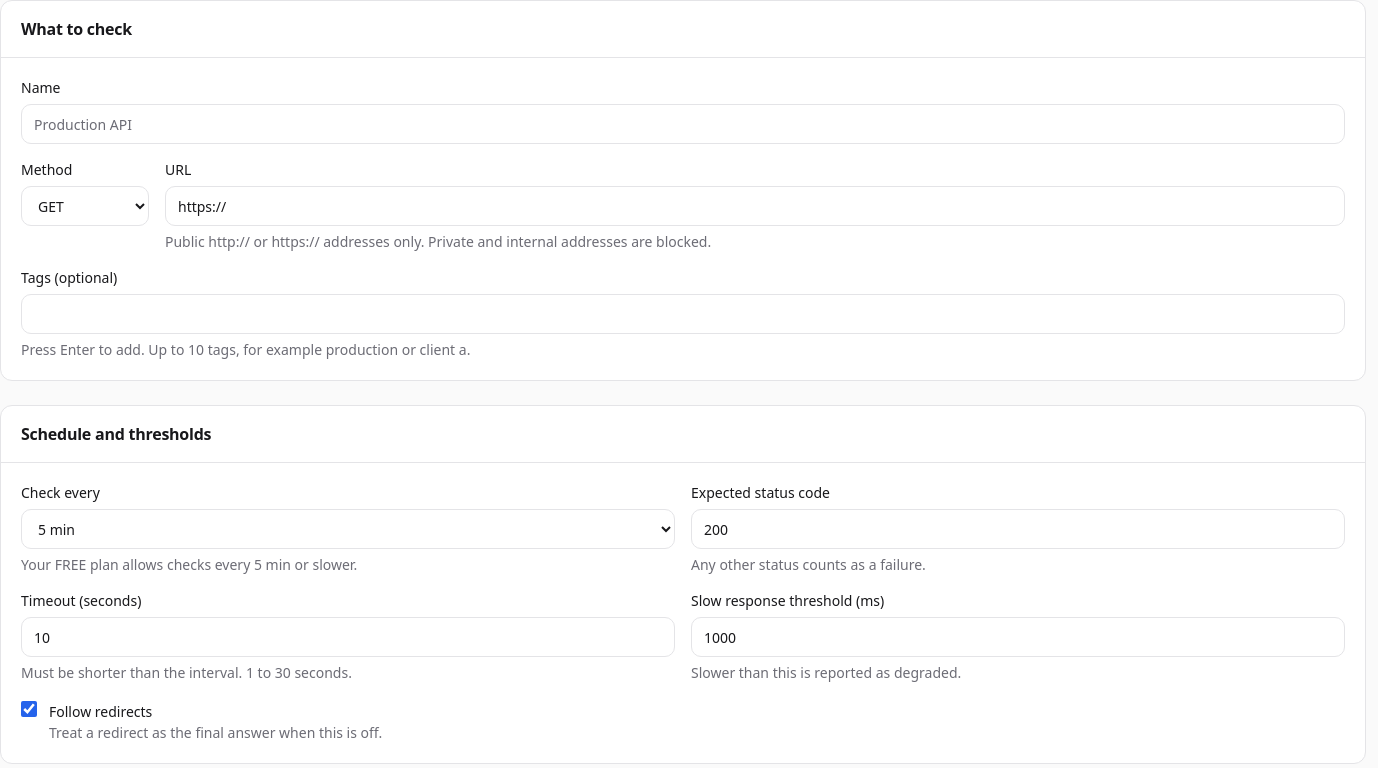
Scenario: MonitorForm validation › rejects the URL not a url
This screenshot has width=1378, height=768.
Type "My API" into the field labelled "Name" at (683, 124), box [21, 104, 1345, 144]
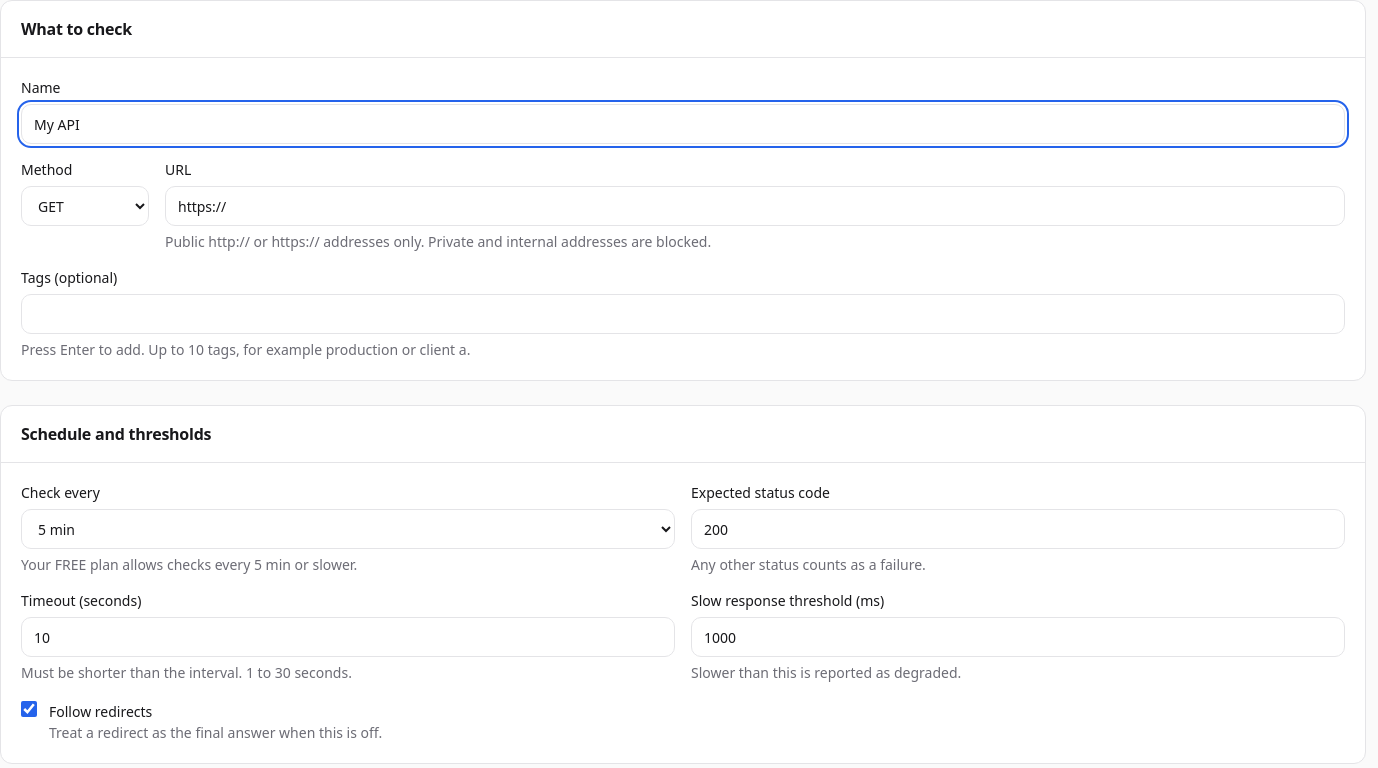
Replace the text in the field labelled "URL" with "not a url" at (755, 206), box [165, 186, 1345, 226]
(page scrolled)
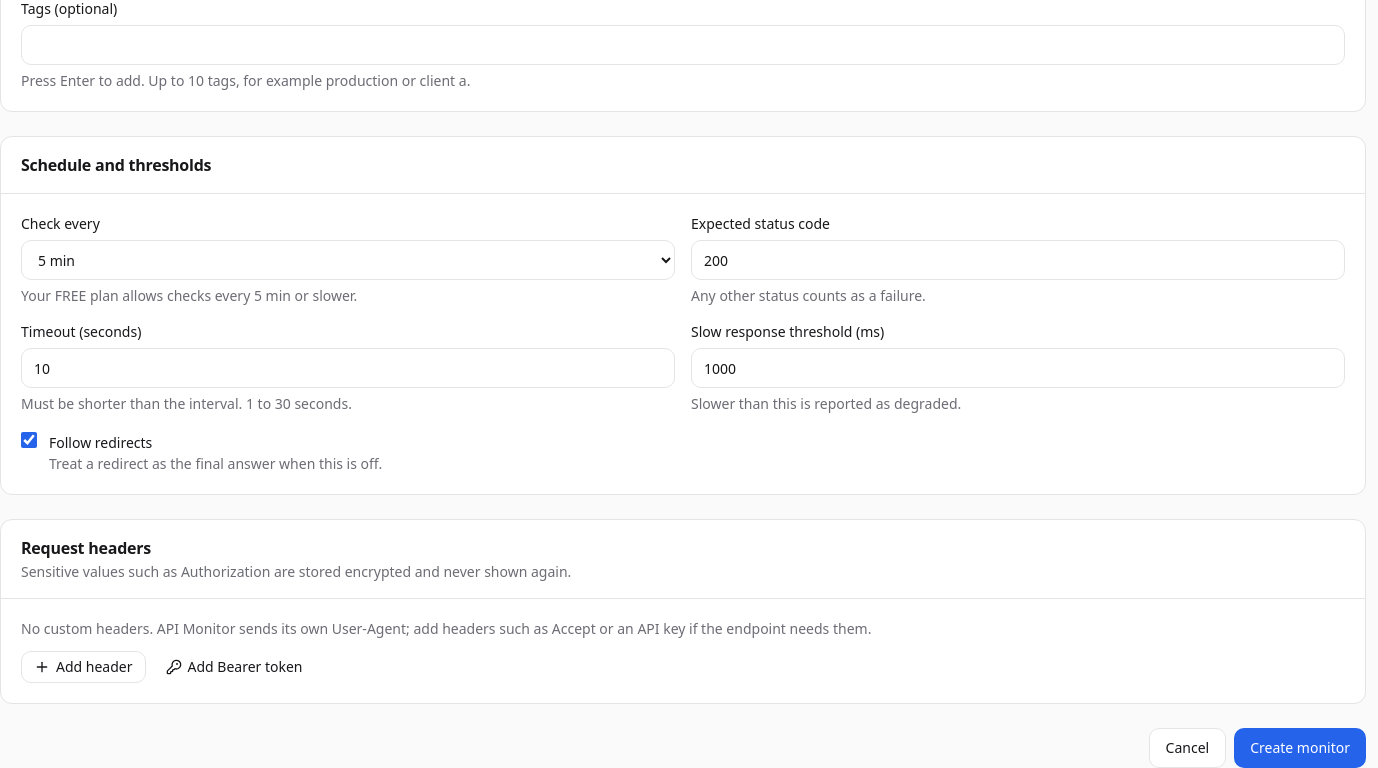
Click the button "Create monitor" at (1300, 748), box [1234, 728, 1366, 767]
(page scrolled)
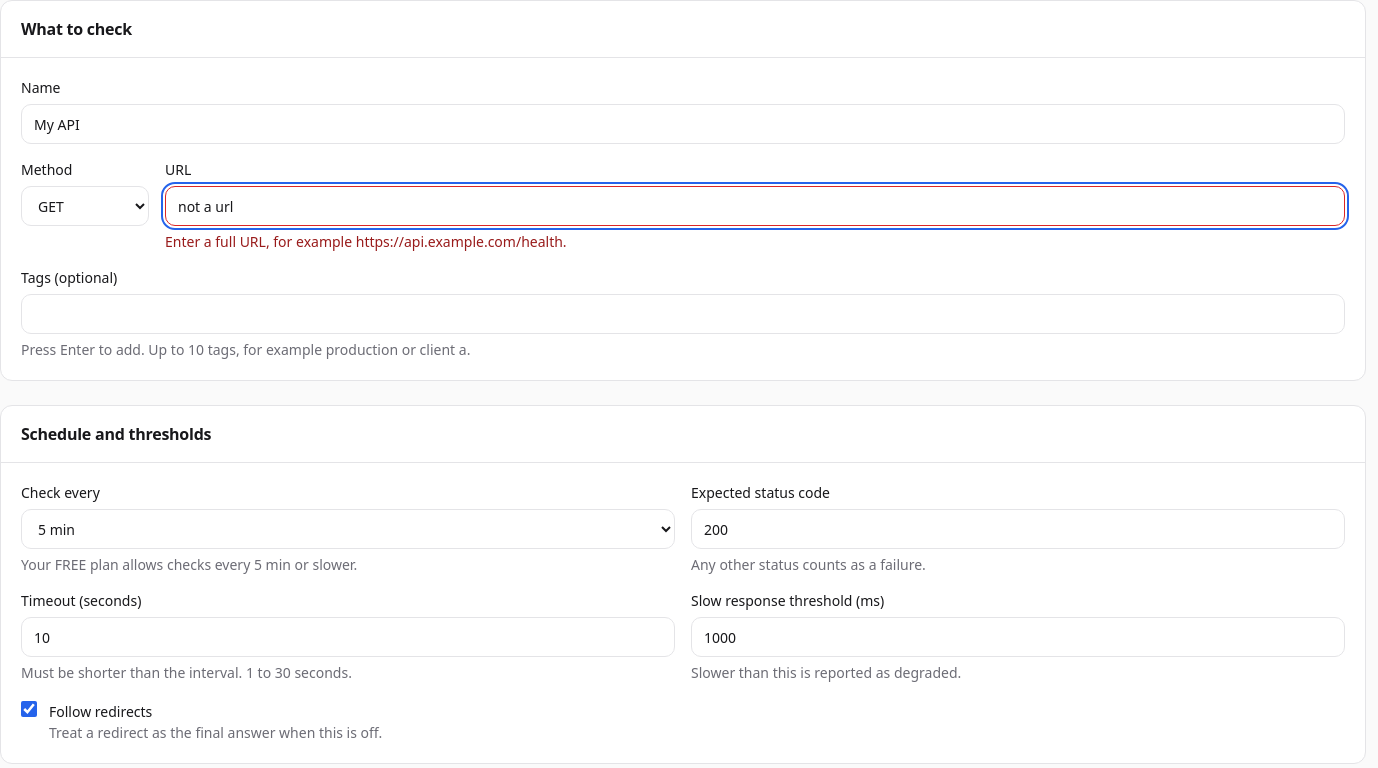
expect the text "Enter a full URL, for example https://api.example.com/health." is shown: met, box [165, 232, 567, 251]
